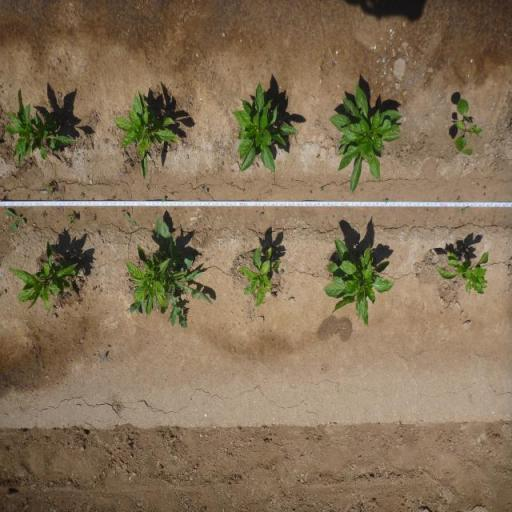plant: (328, 82, 406, 188), (110, 82, 182, 182), (322, 236, 396, 331), (234, 76, 300, 178), (0, 84, 80, 162), (8, 238, 80, 316), (123, 242, 170, 317), (435, 245, 495, 300), (239, 246, 282, 308), (450, 93, 485, 159)
weed: (150, 213, 212, 332), (5, 207, 27, 231), (124, 211, 138, 227), (67, 212, 78, 226), (45, 182, 55, 196), (460, 205, 470, 216), (160, 193, 166, 204), (201, 186, 209, 194), (79, 190, 85, 200), (280, 268, 285, 276), (384, 198, 389, 203), (259, 212, 264, 216)
